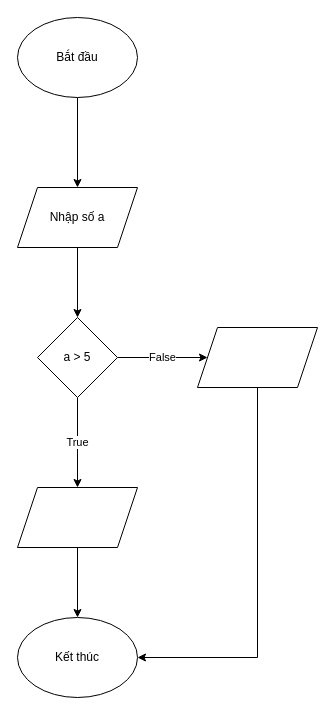
Some shapes in this 335 by 715 pixel diagram are drawn without their labels. Each missing label, with the centre of its shape:
Không đạt: point 257,357
Đạt: point 77,517
